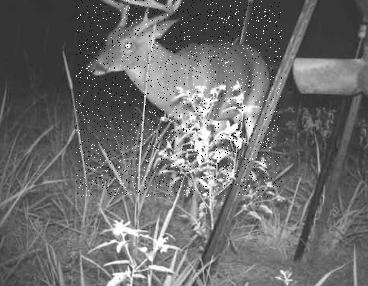Deer: (76, 0, 282, 197)
